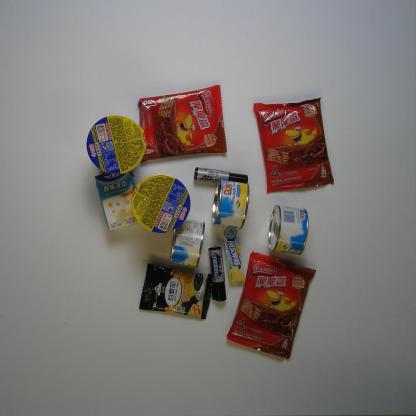Candy: (224, 237, 247, 284)
Canned Food: (266, 204, 309, 258), (168, 216, 206, 270), (212, 177, 250, 230)
Dessert: (227, 252, 316, 359), (250, 88, 342, 191), (137, 84, 229, 158)
Instant Drink: (139, 256, 213, 324)
Instant Noodles: (85, 114, 147, 174), (129, 176, 192, 233)
Milk: (94, 162, 152, 231)
Stationery: (193, 164, 251, 189), (209, 245, 228, 302)
